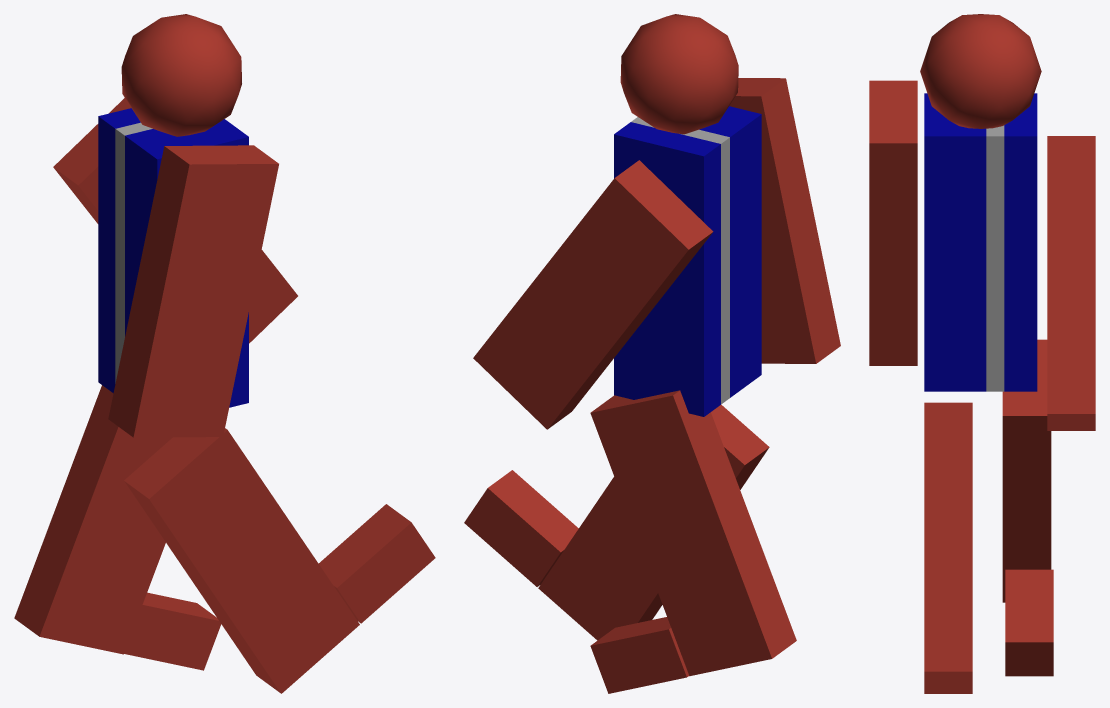
Rendered from player_000028.obj.
The picture shows the model from 3 angles, left to right: view 1: azimuth 30°, elevation 25°; view 2: azimuth 150°, elevation 25°; view 3: azimuth 270°, elevation 25°; orthographic projection. The views are drawn at different scales.
Parts seen in each view (by area): view 1: Cube.005, Cube.001, Cube.002, Cube, Icosphere, Cube.003, Cube.004, Cube.006; view 2: Cube.002, Cube, Cube.006, Cube.005, Cube.001, Icosphere, Cube.003, Cube.004; view 3: Cube, Cube.006, Cube.005, Cube.001, Icosphere, Cube.002, Cube.004, Cube.003.
Boxes of the visible parts, x1,y1,x2,y2 form: Cube.005: (108, 145, 278, 437); Cube.001: (124, 428, 359, 693); Cube.002: (14, 385, 172, 654); Cube: (98, 108, 248, 407); Icosphere: (121, 14, 241, 136); Cube.003: (318, 504, 435, 623); Cube.004: (124, 592, 221, 670); Cube.006: (53, 98, 297, 343); Cube.002: (590, 390, 796, 676); Cube: (614, 106, 761, 416); Cube.006: (473, 160, 713, 429); Cube.005: (729, 78, 840, 363); Cube.001: (538, 404, 769, 640); Icosphere: (620, 14, 738, 134); Cube.003: (464, 470, 578, 586); Cube.004: (590, 617, 689, 693); Cube: (924, 93, 1037, 391); Cube.006: (1047, 136, 1095, 430); Cube.005: (869, 80, 917, 365); Cube.001: (924, 402, 972, 693); Icosphere: (920, 14, 1041, 128); Cube.002: (1002, 339, 1051, 602); Cube.004: (1005, 569, 1053, 676); Cube.003: (924, 620, 972, 682).
Size of the model in its own units: 1.59 by 2.86 by 0.9137.
